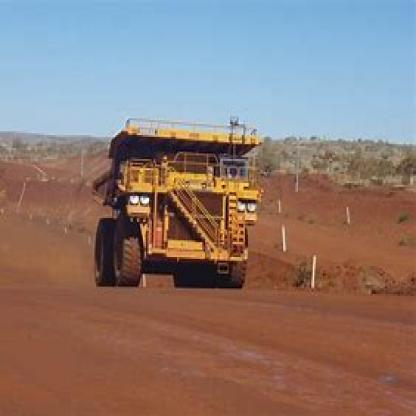dump_truck: (81, 113, 257, 288)
